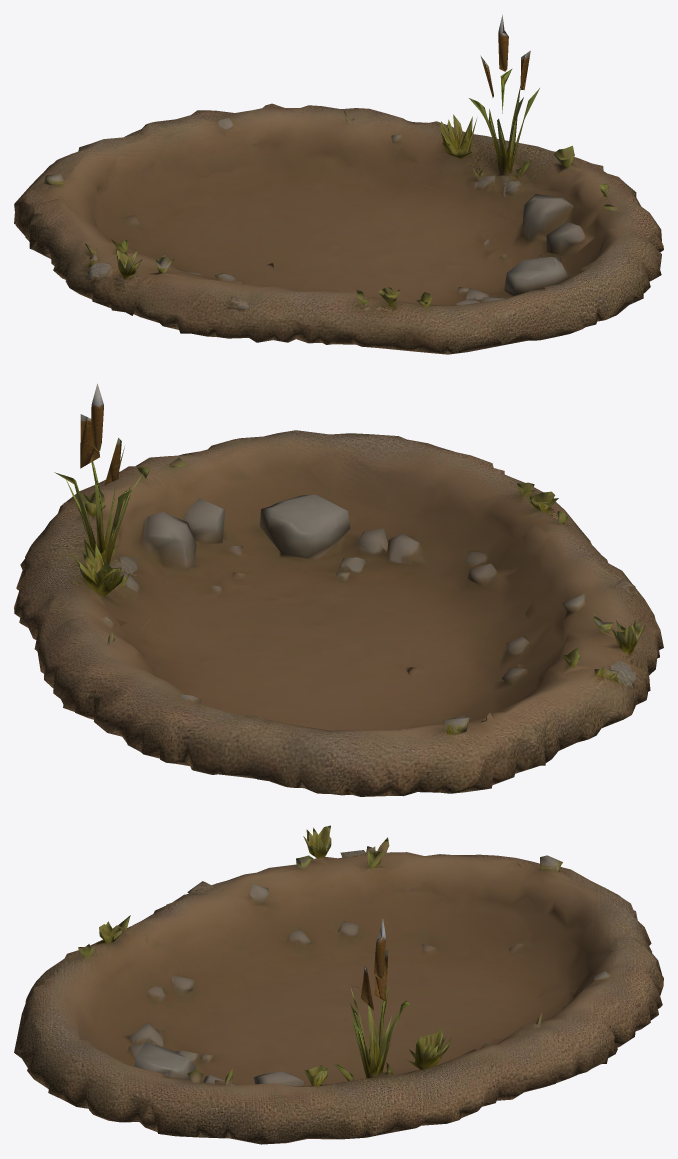
Rendered from lake_pond.glb.
3 renders of one model, top to bottom at view 1: azimuth 30°, elevation 25°; view 2: azimuth 150°, elevation 25°; view 3: azimuth 270°, elevation 25°, orthographic. The views are drawn at different scales.
Visible parts, largest first — view 1: tripo_node_b52aba52-6f14-48b6-a98d-98b493d089e5; view 2: tripo_node_b52aba52-6f14-48b6-a98d-98b493d089e5; view 3: tripo_node_b52aba52-6f14-48b6-a98d-98b493d089e5.
Part boxes in pixels (box(x1,y1,x2,y2)): tripo_node_b52aba52-6f14-48b6-a98d-98b493d089e5: box(14, 14, 663, 354); tripo_node_b52aba52-6f14-48b6-a98d-98b493d089e5: box(14, 383, 663, 796); tripo_node_b52aba52-6f14-48b6-a98d-98b493d089e5: box(14, 825, 663, 1144).
Size of the model in its own units: 0.991 by 0.3611 by 1.
Materials: 1 (1 with a texture image).
